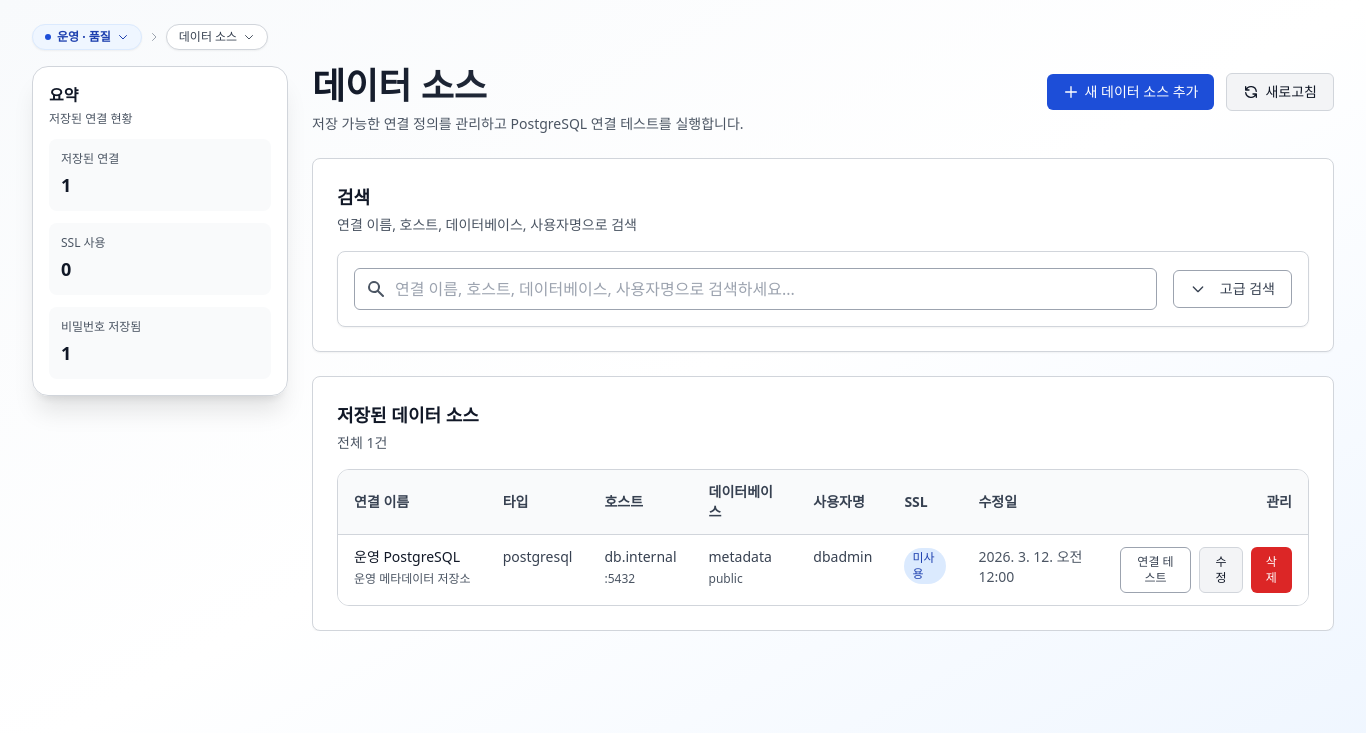
Test case: Data source browse page › should load the saved data sources and run a connection test from the list
Expected: the text "운영 PostgreSQL" is shown, [354,547,471,567]
Click the button "연결 테스트": [1156, 570] box [1120,547,1191,593]
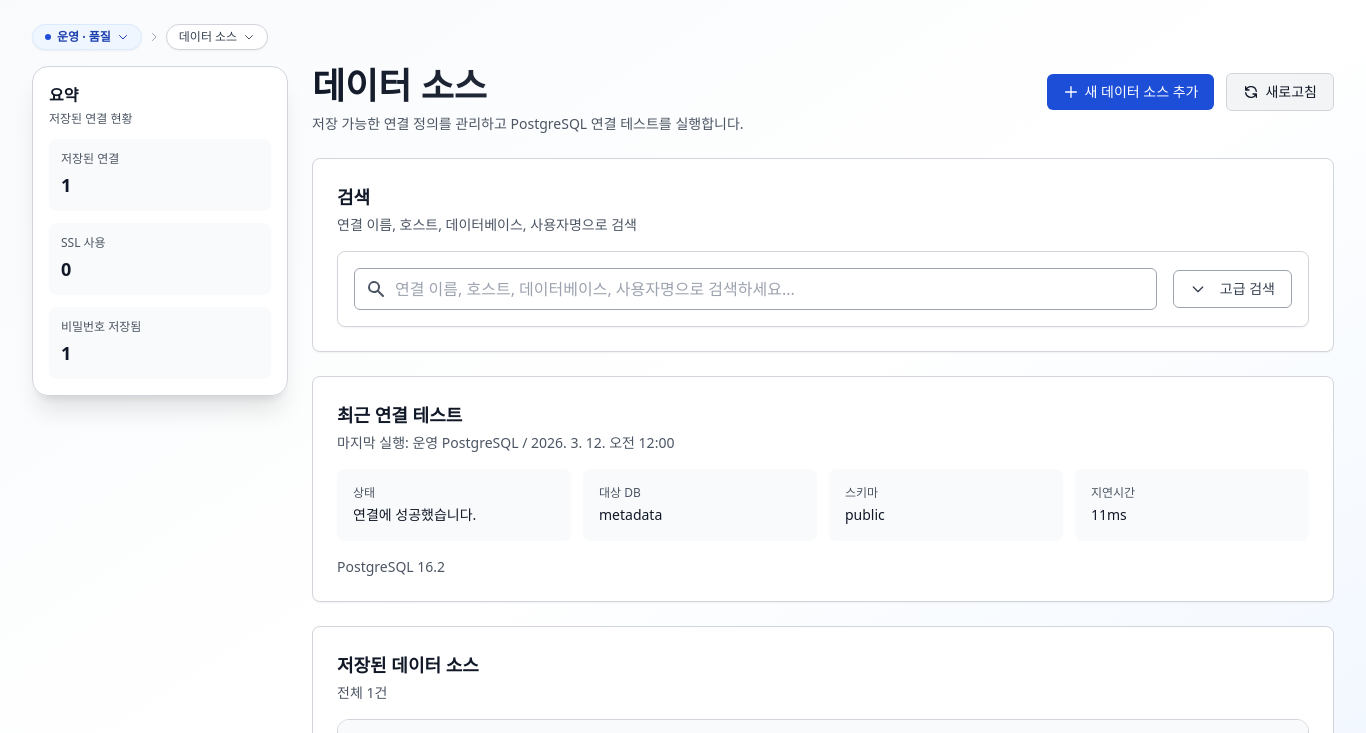
Result: the text "연결에 성공했습니다." is shown at [353,505,476,524]
Result: the text "PostgreSQL 16.2" is shown at [337,557,445,576]
